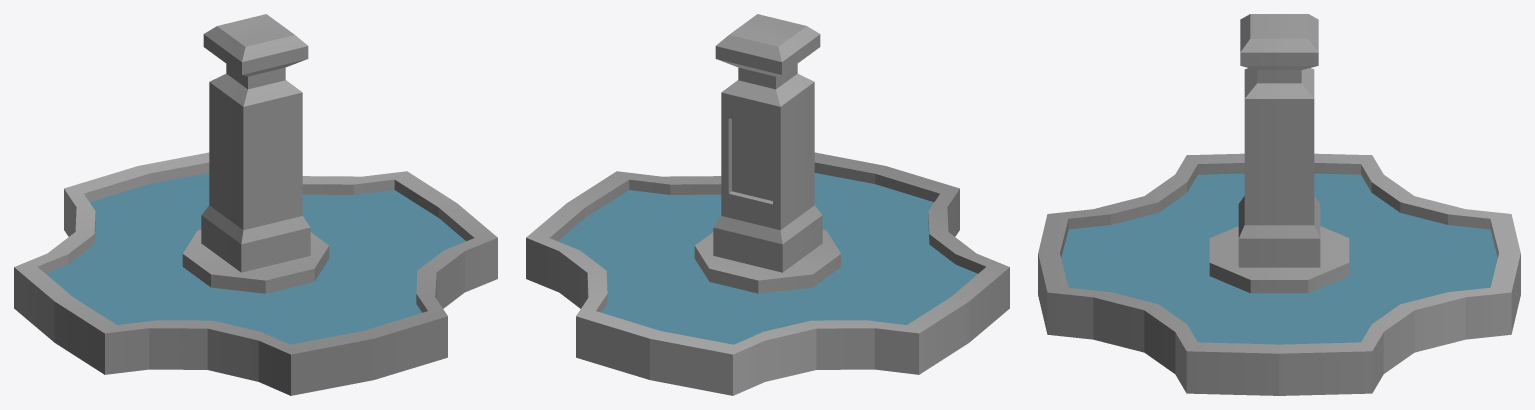
Rendered from Fountain_01.fbx.
The picture shows the model from 3 angles, left to right: view 1: azimuth 30°, elevation 25°; view 2: azimuth 150°, elevation 25°; view 3: azimuth 270°, elevation 25°; orthographic projection. The views are drawn at different scales.
Visible parts, largest first — view 1: Fountain_01; view 2: Fountain_01; view 3: Fountain_01.
Boxes of the visible parts, x1,y1,x2,y2 form: Fountain_01: (14,14,497,395); Fountain_01: (526,14,1009,395); Fountain_01: (1038,14,1520,395).
Size of the model in its own units: 434 by 271 by 441.
